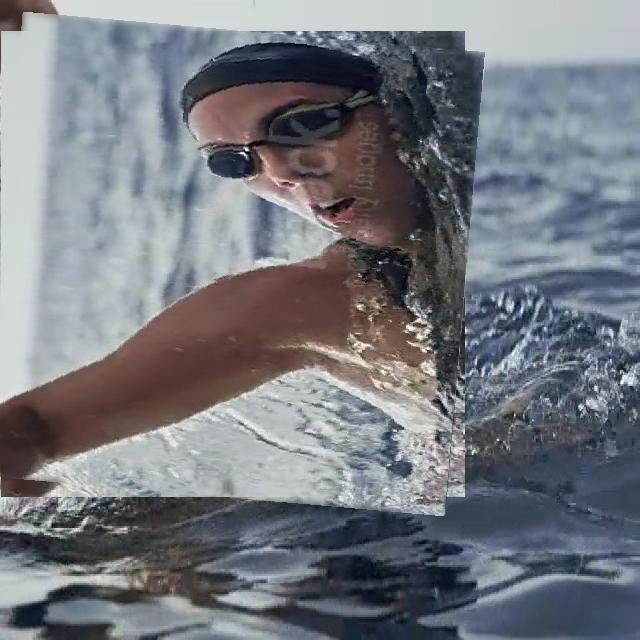drowning: (0, 21, 475, 506)
